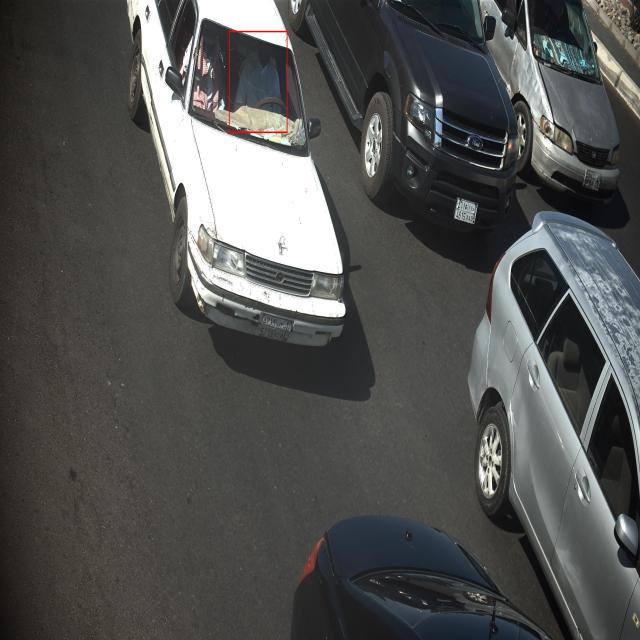windshield: (194, 16, 311, 156)
